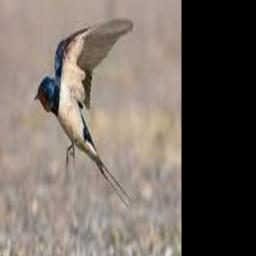Swallow: (34, 17, 134, 206)
